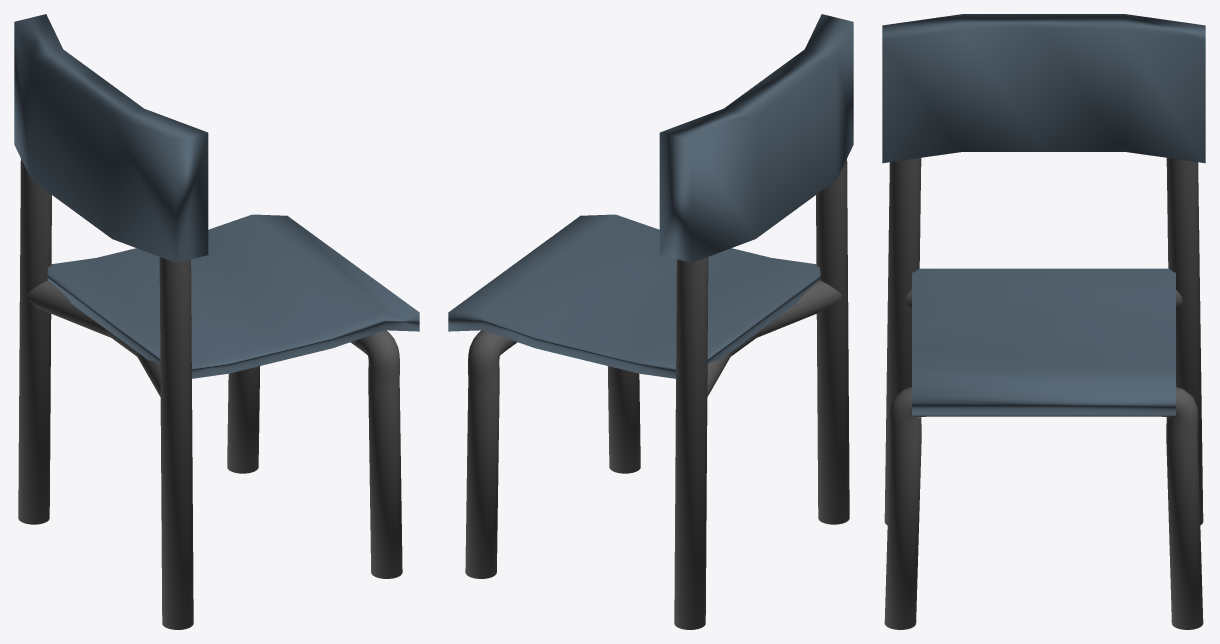
The model's file is Chair.fbx.
The picture shows the model from 3 angles, left to right: view 1: azimuth 30°, elevation 25°; view 2: azimuth 150°, elevation 25°; view 3: azimuth 270°, elevation 25°; orthographic projection.
Visible parts, largest first — view 1: Cube, Cube.001, Cylinder.001, Cylinder, Cylinder.002; view 2: Cube, Cube.001, Cylinder.001, Cylinder, Cylinder.002; view 3: Cube.001, Cube, Cylinder, Cylinder.001.
Boxes of the visible parts, x1,y1,x2,y2 form: Cube: (47,214,419,378); Cube.001: (14,14,208,262); Cylinder.001: (18,159,193,629); Cylinder: (227,330,402,578); Cylinder.002: (23,280,160,396); Cube: (448,214,820,378); Cube.001: (659,14,853,262); Cylinder.001: (674,159,849,629); Cylinder: (465,330,640,578); Cylinder.002: (707,280,844,396); Cube.001: (882,14,1205,163); Cube: (912,268,1175,415); Cylinder: (884,387,1203,629); Cylinder.001: (884,158,1203,525).
Size of the model in its own units: 107 by 178 by 106.
